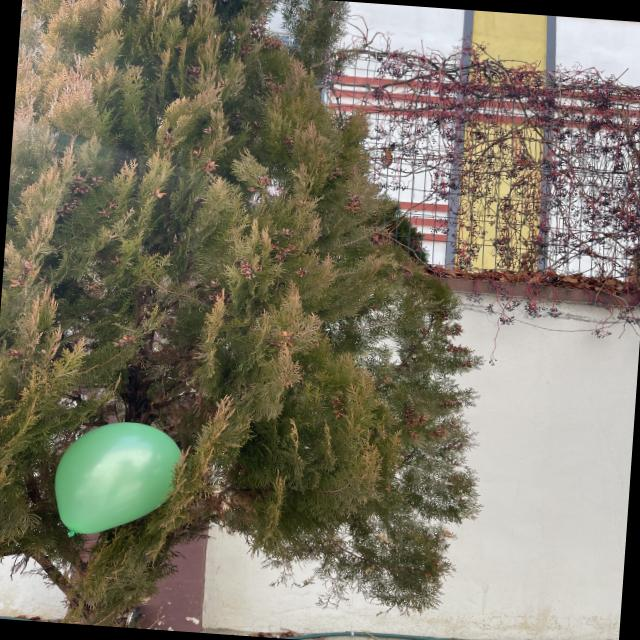balloon: (55, 422, 180, 536)
